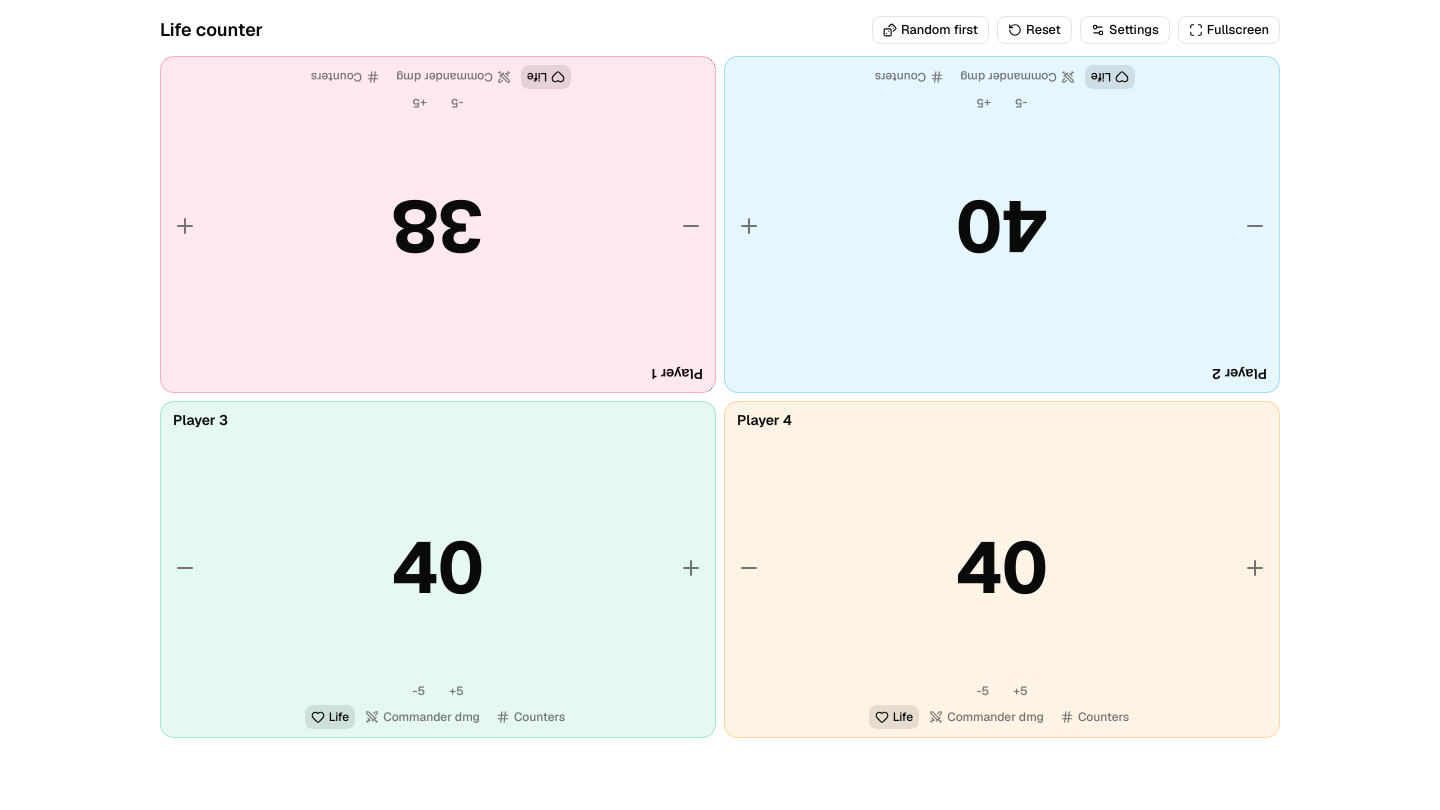
it: LifeCounter › spells out Commander in every label
Click the 1st tab "Counters" at point(345, 77), box x1=305 y1=65 x2=386 y2=89
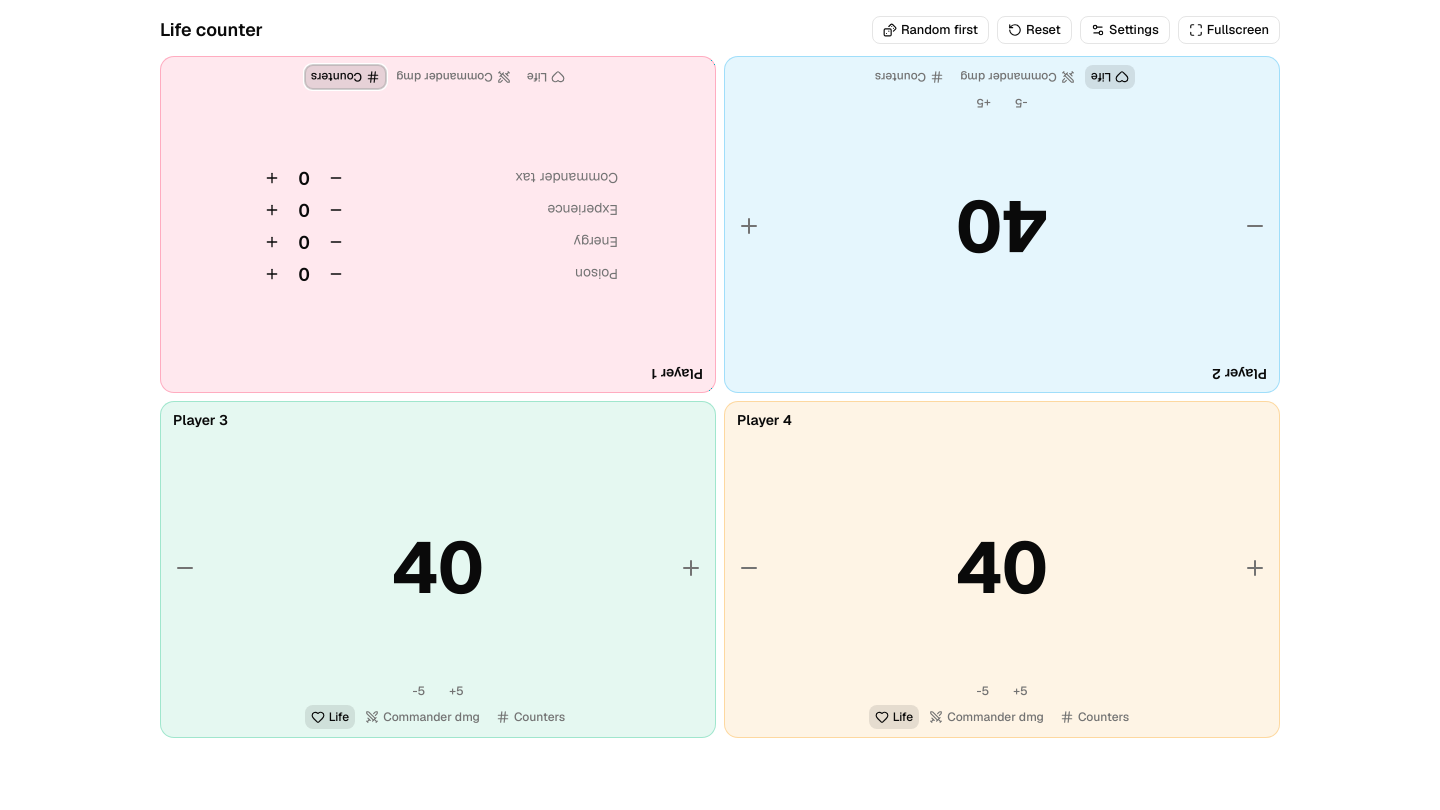
Expected: the text "Commander tax" is shown, x1=515 y1=168 x2=618 y2=188
